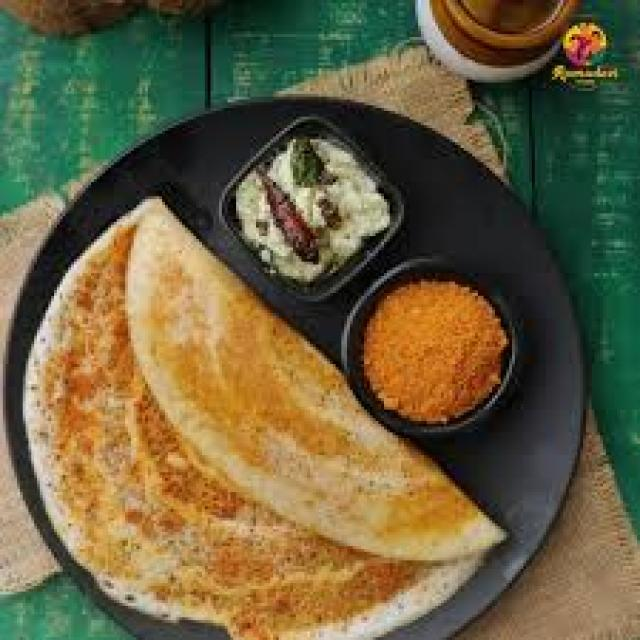DOSA: (26, 199, 501, 637)
